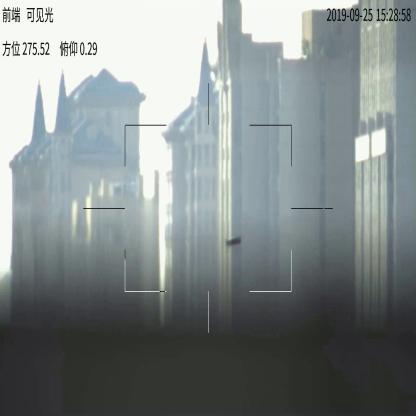uav: (226, 235, 243, 246)
